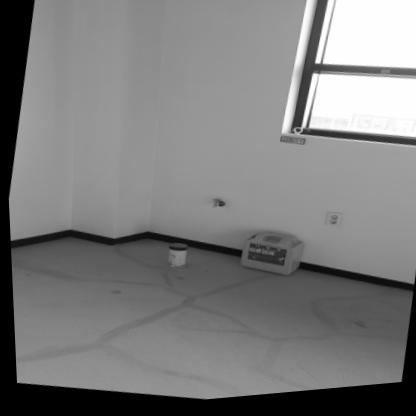DDL: (234, 229, 301, 284)
